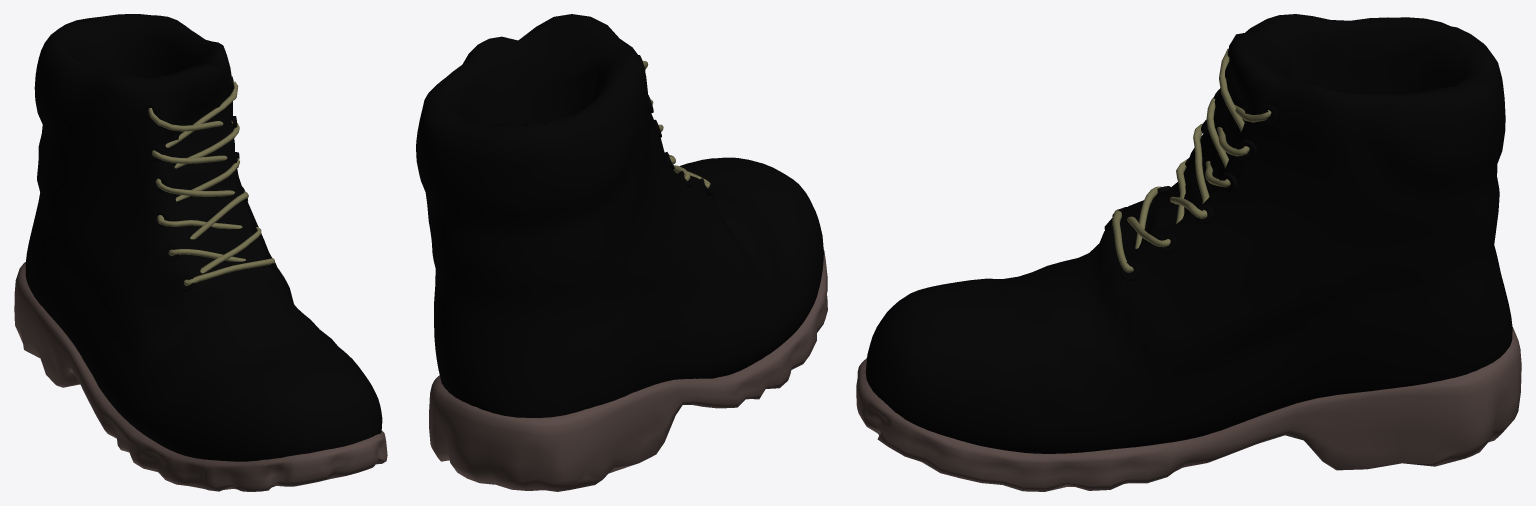
Rendered from botte_D_t_ 1.fbx.
3 renders of one model, left to right at view 1: azimuth 30°, elevation 25°; view 2: azimuth 150°, elevation 25°; view 3: azimuth 270°, elevation 25°, orthographic. The views are drawn at different scales.
Visible parts, largest first — view 1: Winter_Boots.001; view 2: Winter_Boots.001; view 3: Winter_Boots.001.
Part boxes in pixels (bbox=[...]): Winter_Boots.001: bbox=[14, 14, 387, 491]; Winter_Boots.001: bbox=[416, 14, 827, 491]; Winter_Boots.001: bbox=[856, 14, 1521, 491].
Bounding box in the file's own units: 19.47 × 32.29 × 47.3.
